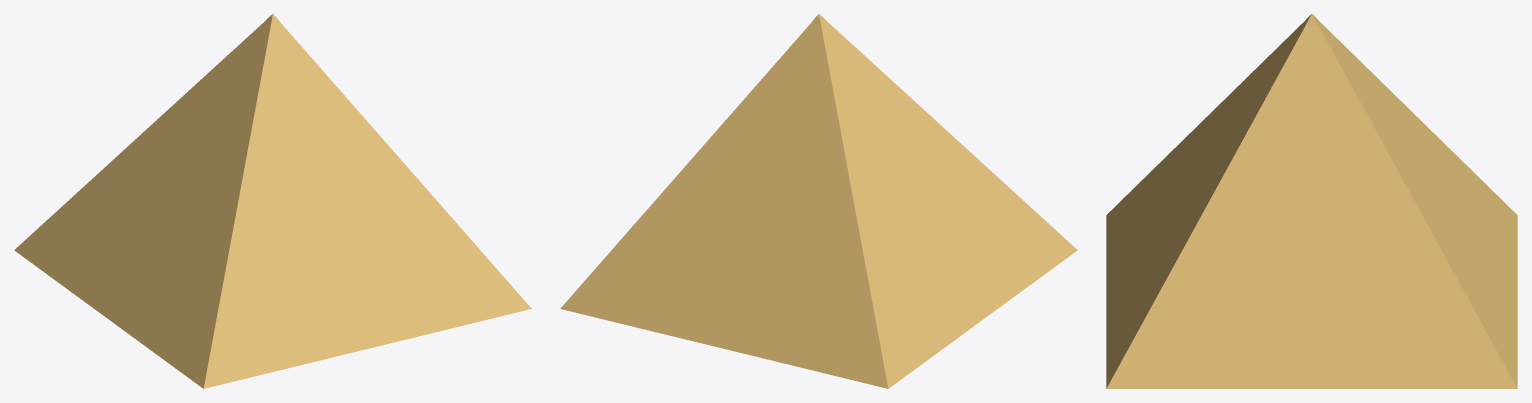
3 renders of one model, left to right at view 1: azimuth 30°, elevation 25°; view 2: azimuth 150°, elevation 25°; view 3: azimuth 270°, elevation 25°, orthographic. The views are drawn at different scales.
Visible parts, largest first — view 1: Cube; view 2: Cube; view 3: Cube.
Part boxes in pixels (x1=…): Cube: x1=14, y1=14, x2=531, y2=388; Cube: x1=560, y1=14, x2=1077, y2=388; Cube: x1=1106, y1=14, x2=1517, y2=388.
Bounding box in the file's own units: 2 × 1.55 × 2.
